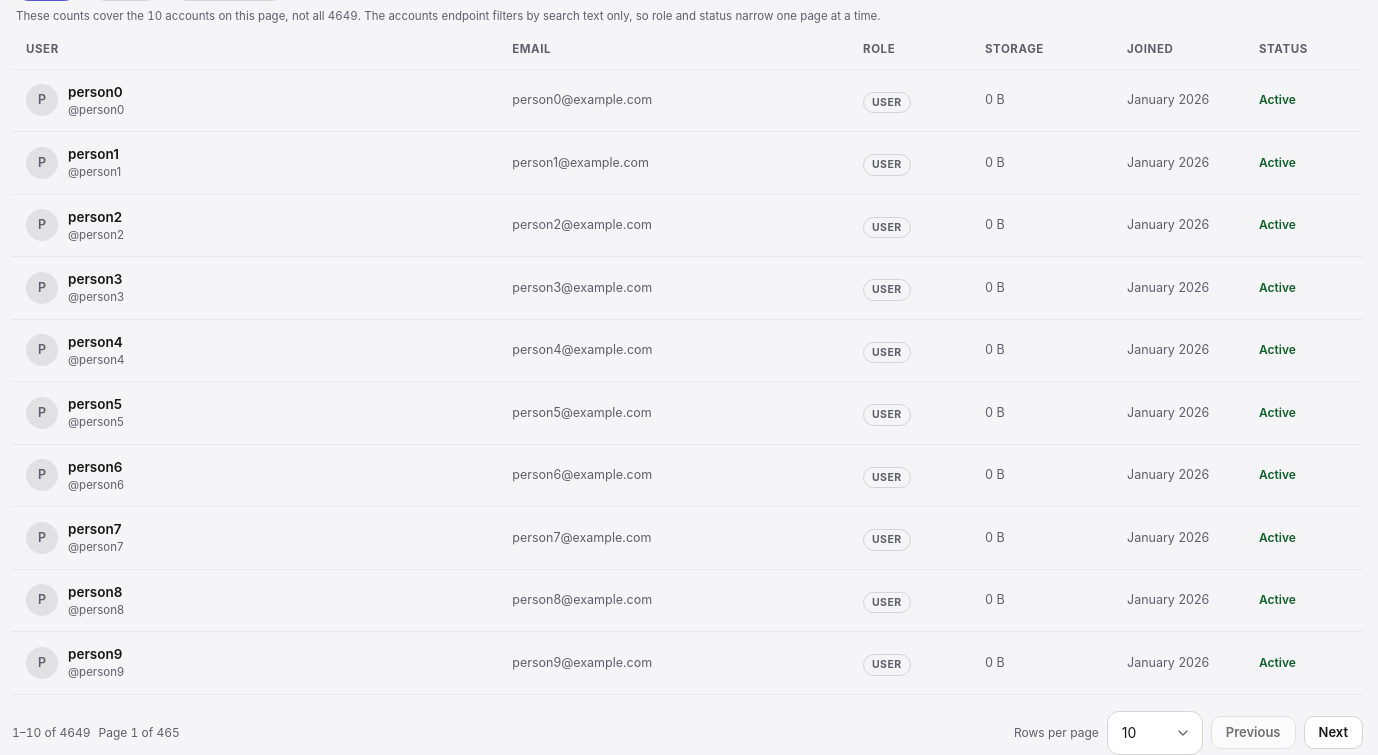
Scenario: AdminUsersView pagination › pages forward and back over limit/offset
(page scrolled)
Check: the text "1–10 of 4649" is shown, box [12, 725, 91, 741]
Click the button "Next" at [1333, 733], box [1304, 716, 1363, 749]
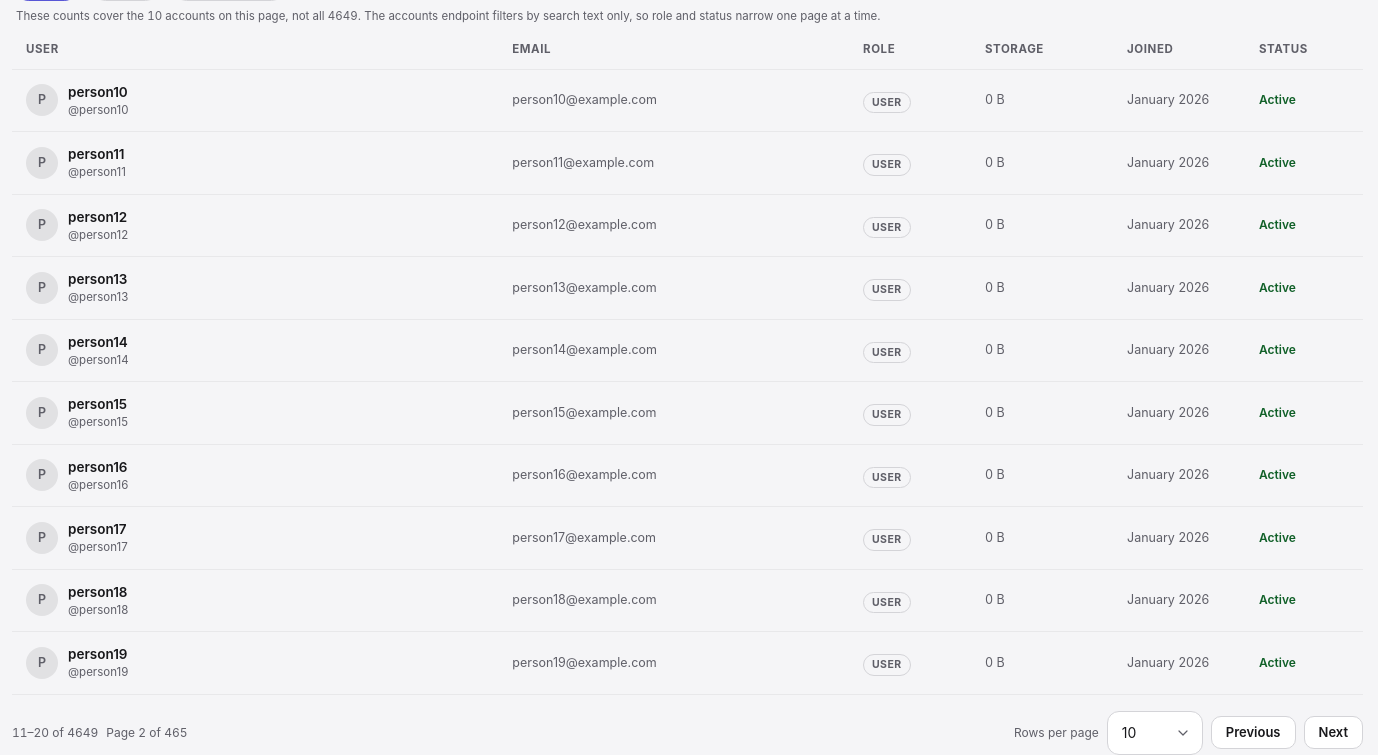
Check: the text "11–20 of 4649" is shown, box [12, 725, 98, 741]
Check: the button "Previous" is enabled
Click the button "Previous" at [1253, 733], box [1211, 716, 1296, 749]
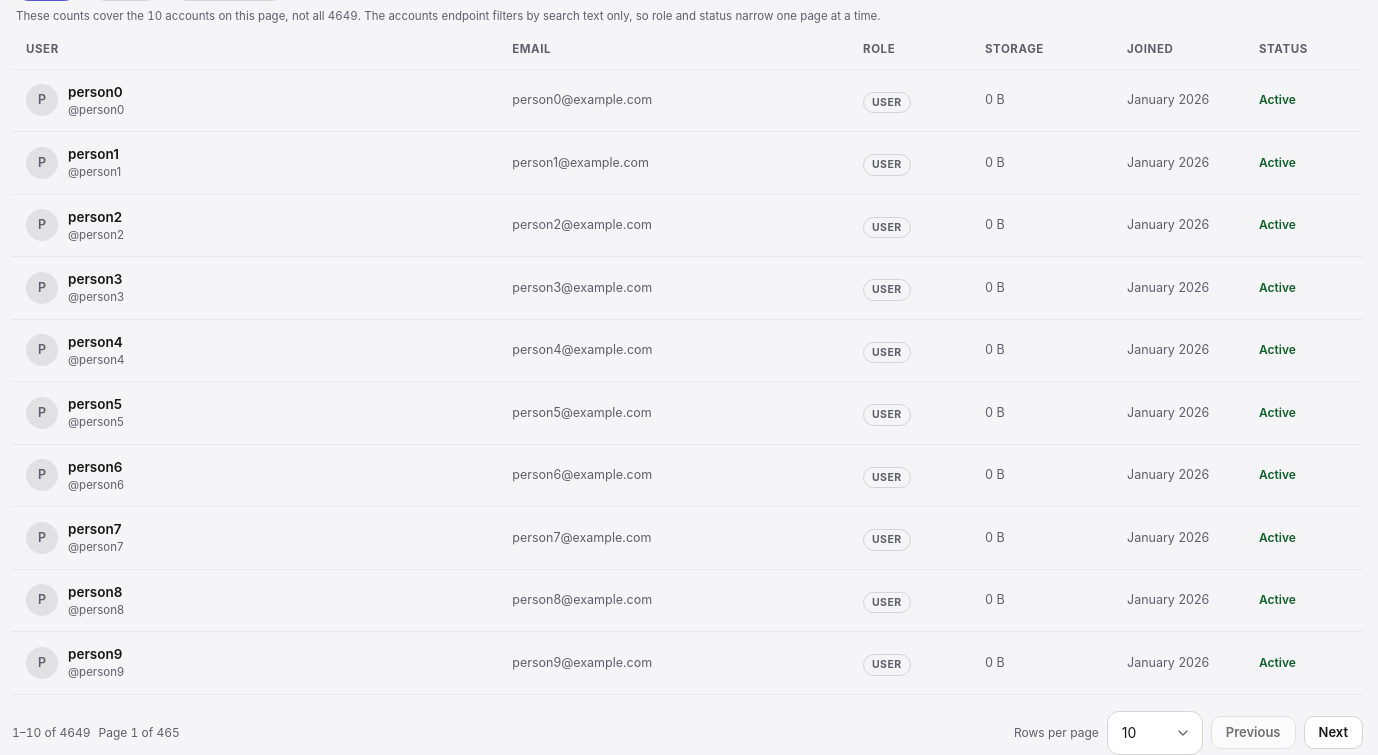
Check: the text "1–10 of 4649" is shown, box [12, 725, 91, 741]
